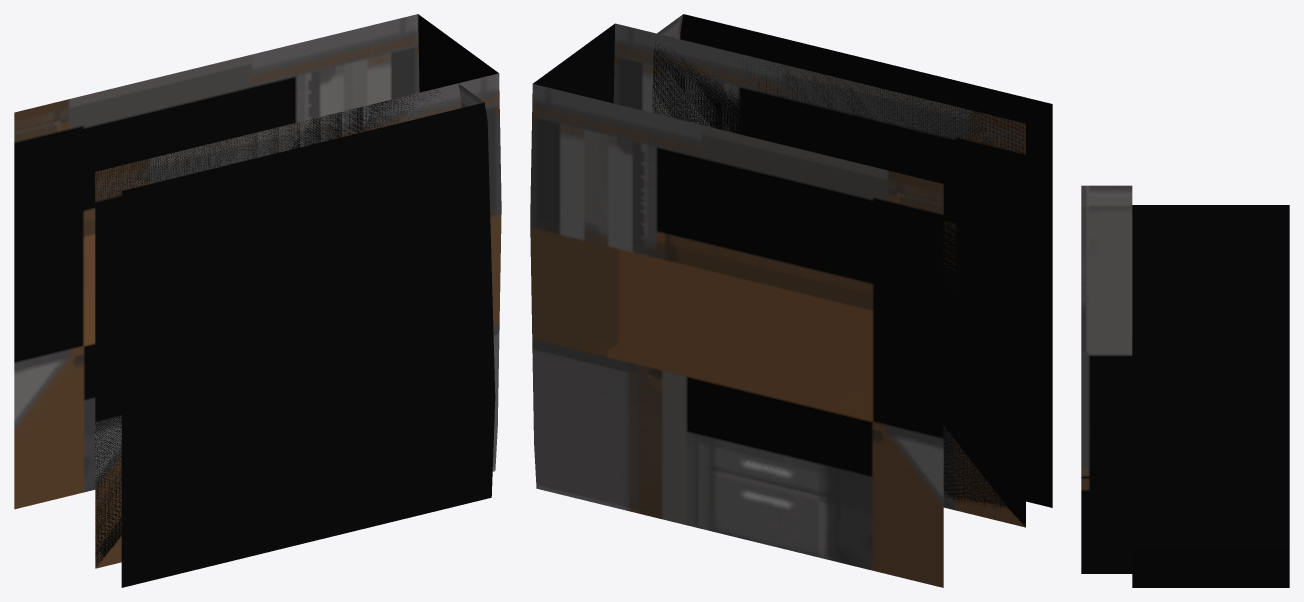
Rendered from section-14.obj.
3 views of the same model, side by side, from view 1: azimuth 30°, elevation 25°; view 2: azimuth 150°, elevation 25°; view 3: azimuth 270°, elevation 25° (orthographic). The views are drawn at different scales.
Size of the model in its own units: 1.07 by 1 by 0.49.
